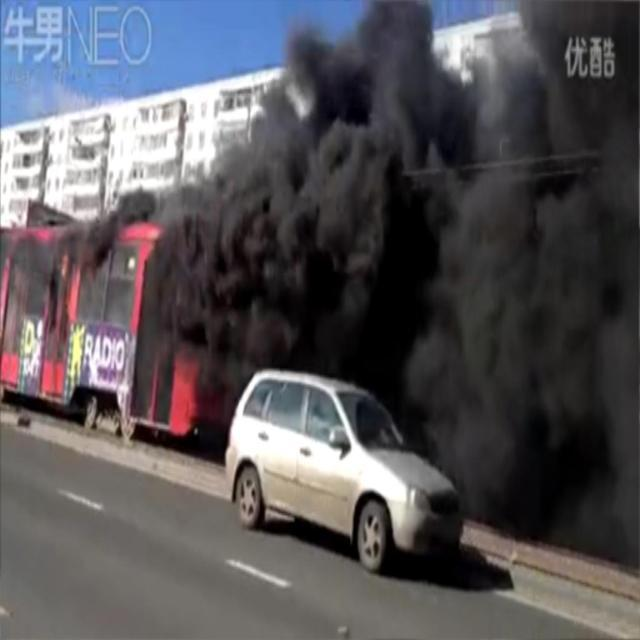Smoke: (12, 0, 640, 568)
